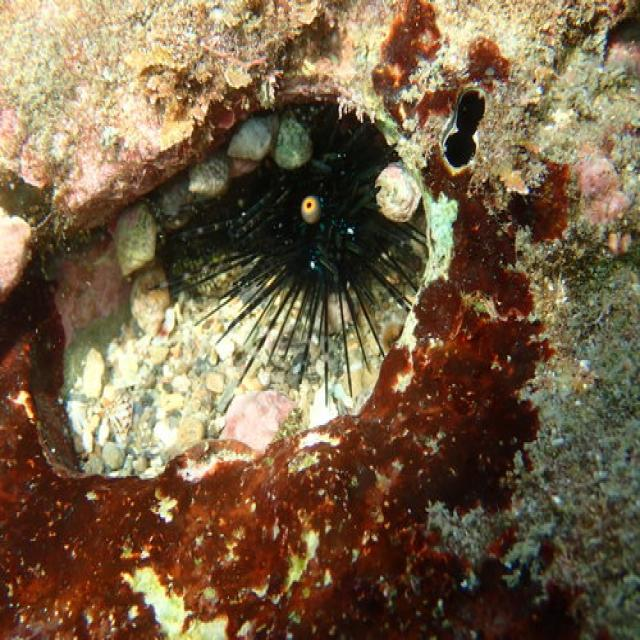Urchin: (147, 99, 438, 401)
